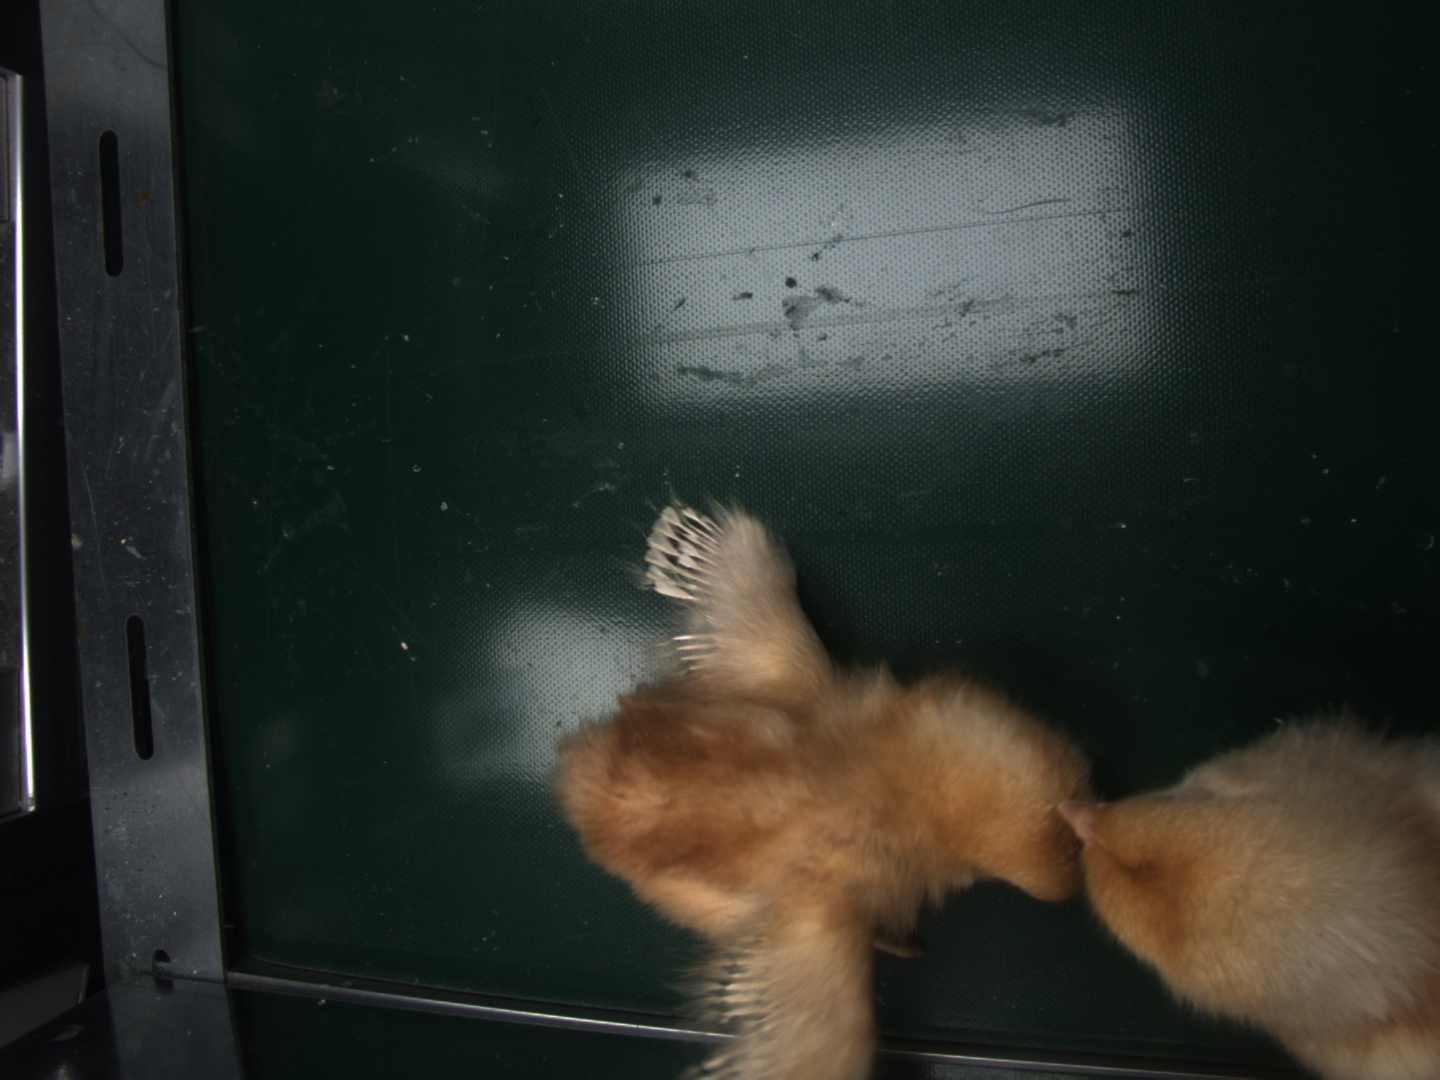female: (647, 505, 730, 602)
